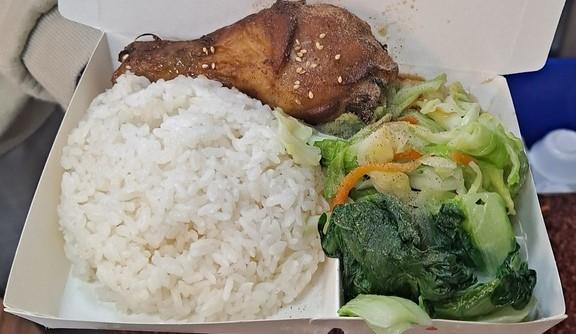big grilled chicken leg: (8, 24, 571, 334)
big herbal chicken leg: (59, 79, 327, 315)
braised fish fillet: (313, 194, 545, 325), (320, 120, 526, 206), (380, 74, 493, 130)
braised pork: (112, 2, 395, 128)
